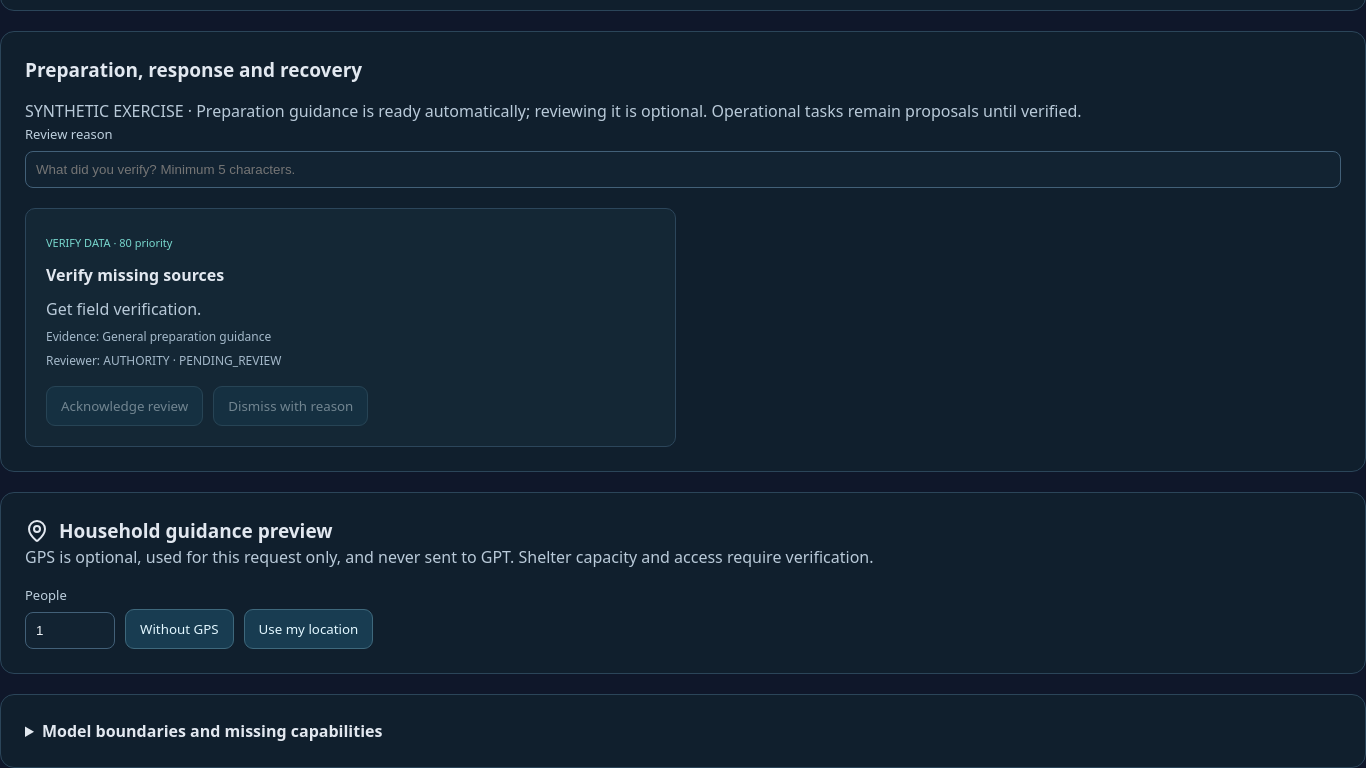
Scenario: AI Brain workspace › supports household guidance without requesting GPS
(page scrolled)
Step 1. Click the button "Without GPS" → point(179, 629), box [125, 609, 234, 649]
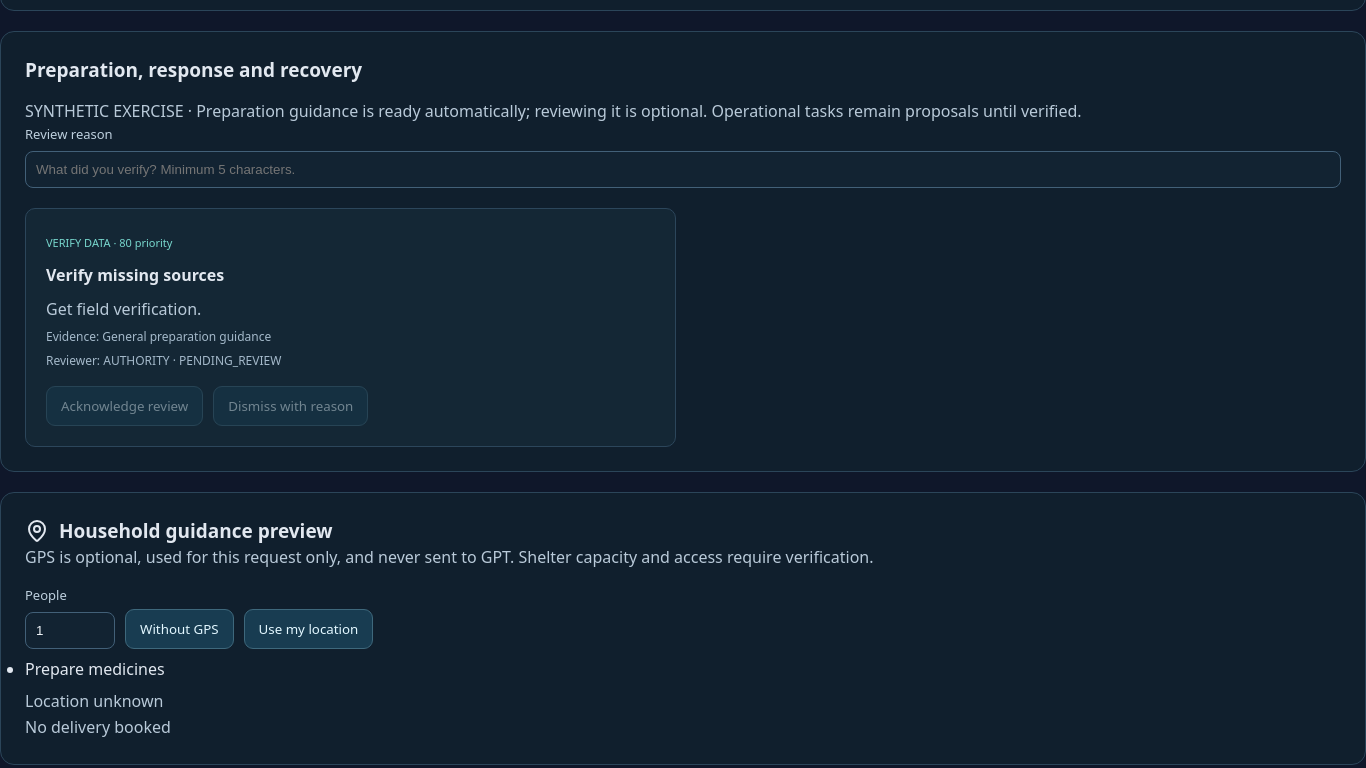
Now the text "Location unknown" is shown, box [25, 690, 163, 712]
